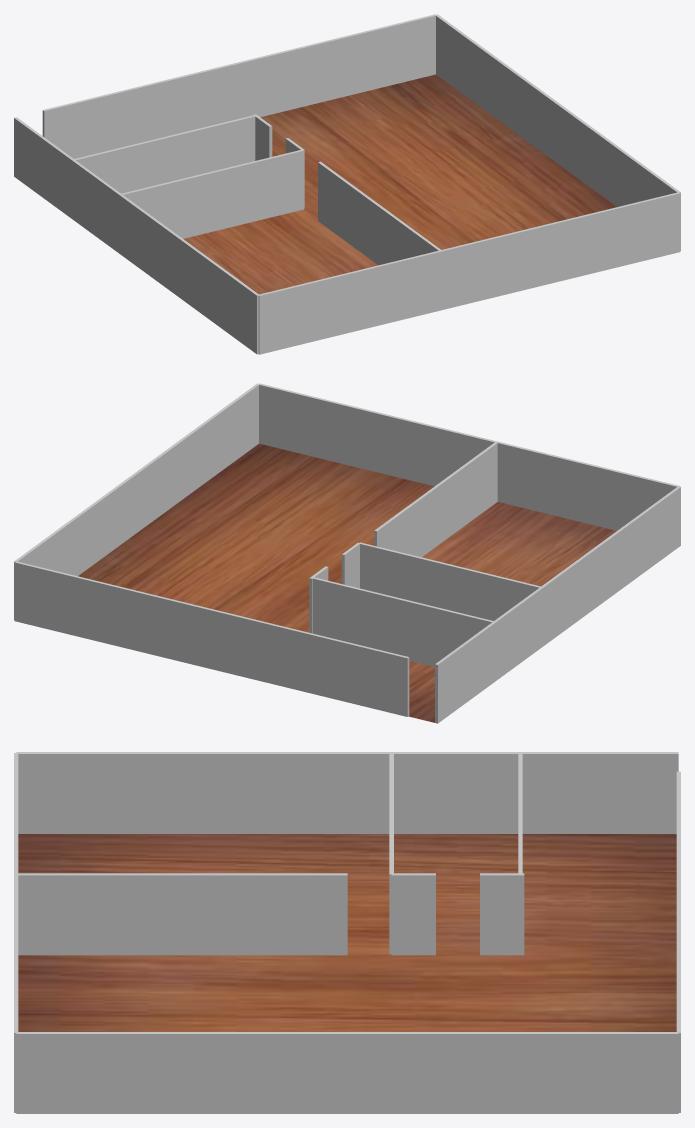
File: floorPlan.glb
3 views of the same model, one above another, from view 1: azimuth 30°, elevation 25°; view 2: azimuth 150°, elevation 25°; view 3: azimuth 270°, elevation 25° (orthographic). The views are drawn at different scales.
Visible parts, largest first — view 1: Plane, Cube.001, Cube.003, Cube, Cube.002, Cube.004, Cube.008, Cube.005, Cube.007; view 2: Plane, Cube.003, Cube.001, Cube, Cube.002, Cube.008, Cube.004, Cube.005, Cube.006; view 3: Plane, Cube.002, Cube, Cube.005, Cube.006, Cube.007, Cube.001, Cube.003, Cube.004, Cube.008.
Part boxes in pixels (x1=…): Plane: x1=183, y1=74, x2=616, y2=294; Cube.001: x1=258, y1=192, x2=680, y2=354; Cube.003: x1=42, y1=14, x2=435, y2=158; Cube: x1=14, y1=117, x2=258, y2=354; Cube.002: x1=435, y1=14, x2=680, y2=251; Cube.004: x1=121, y1=149, x2=303, y2=238; Cube.008: x1=73, y1=115, x2=255, y2=193; Cube.005: x1=318, y1=161, x2=440, y2=265; Cube.007: x1=253, y1=114, x2=272, y2=160; Plane: x1=78, y1=443, x2=616, y2=722; Cube.003: x1=14, y1=561, x2=409, y2=716; Cube.001: x1=258, y1=383, x2=680, y2=530; Cube: x1=435, y1=486, x2=680, y2=723; Cube.002: x1=14, y1=383, x2=258, y2=620; Cube.008: x1=312, y1=577, x2=493, y2=666; Cube.004: x1=360, y1=542, x2=540, y2=620; Cube.005: x1=374, y1=442, x2=497, y2=557; Cube.006: x1=341, y1=542, x2=360, y2=588; Plane: x1=18, y1=834, x2=676, y2=1031; Cube.002: x1=16, y1=1032, x2=678, y2=1113; Cube: x1=16, y1=752, x2=678, y2=833; Cube.005: x1=16, y1=873, x2=347, y2=955; Cube.006: x1=391, y1=873, x2=435, y2=955; Cube.007: x1=480, y1=873, x2=524, y2=955; Cube.001: x1=14, y1=753, x2=18, y2=1112; Cube.003: x1=676, y1=771, x2=680, y2=1112; Cube.004: x1=389, y1=753, x2=393, y2=954; Cube.008: x1=518, y1=753, x2=522, y2=874.
Bounding box in the file's own units: 60.4 × 8 × 60.4.
1 material, 1 textured.
